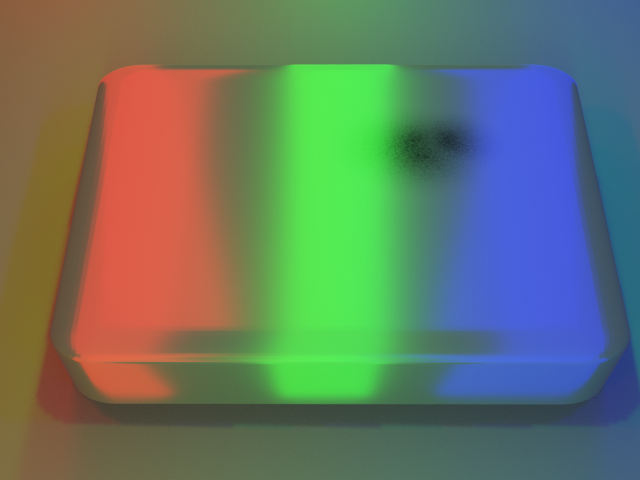stain: (331, 70, 566, 199)
